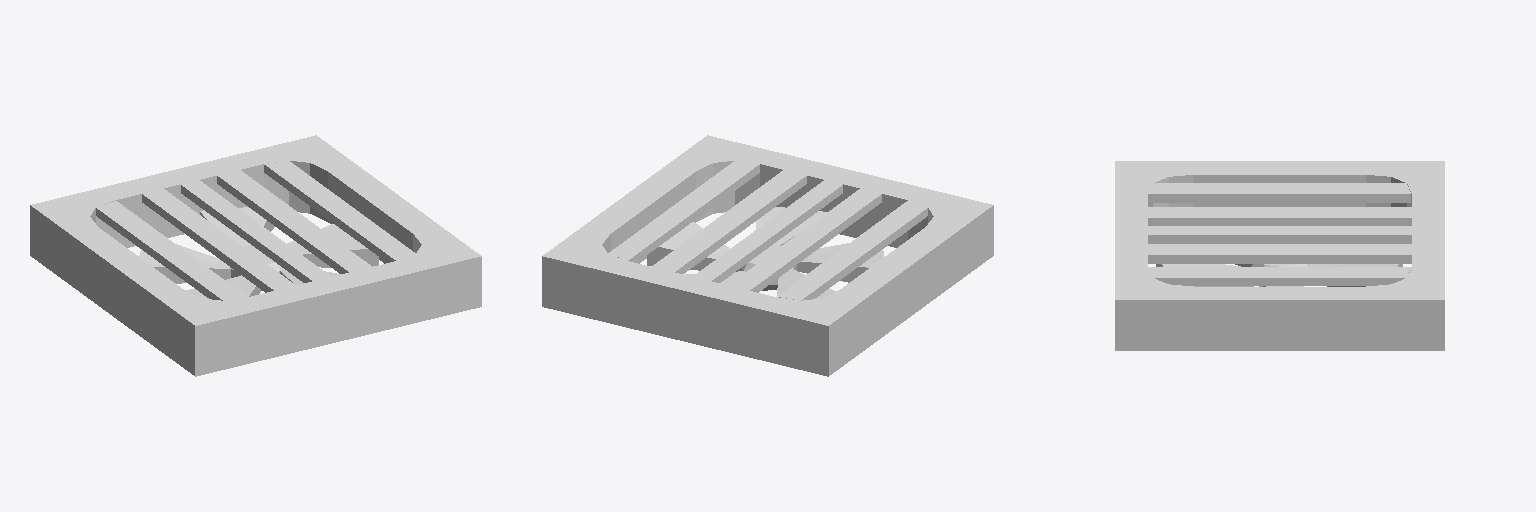
3 views of the same model, side by side, from view 1: azimuth 30°, elevation 25°; view 2: azimuth 150°, elevation 25°; view 3: azimuth 270°, elevation 25° (orthographic).
Parts seen in each view (by area): view 1: fan:name2; view 2: fan:name2; view 3: fan:name2.
Part boxes in pixels (bbox=[...]): fan:name2: bbox=[30, 135, 481, 376]; fan:name2: bbox=[542, 135, 993, 376]; fan:name2: bbox=[1115, 161, 1444, 350].
Bounding box in the file's own units: 0.7071 × 0.1198 × 0.7071.
1 materials, 1 textured.